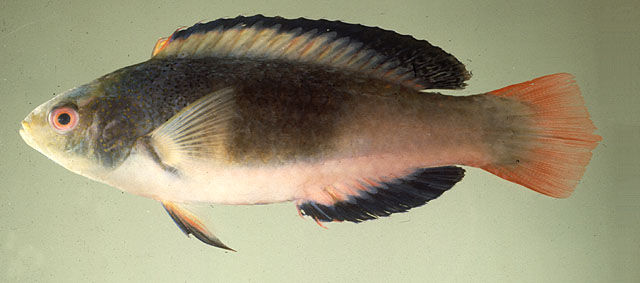fish: (19, 15, 603, 253)
